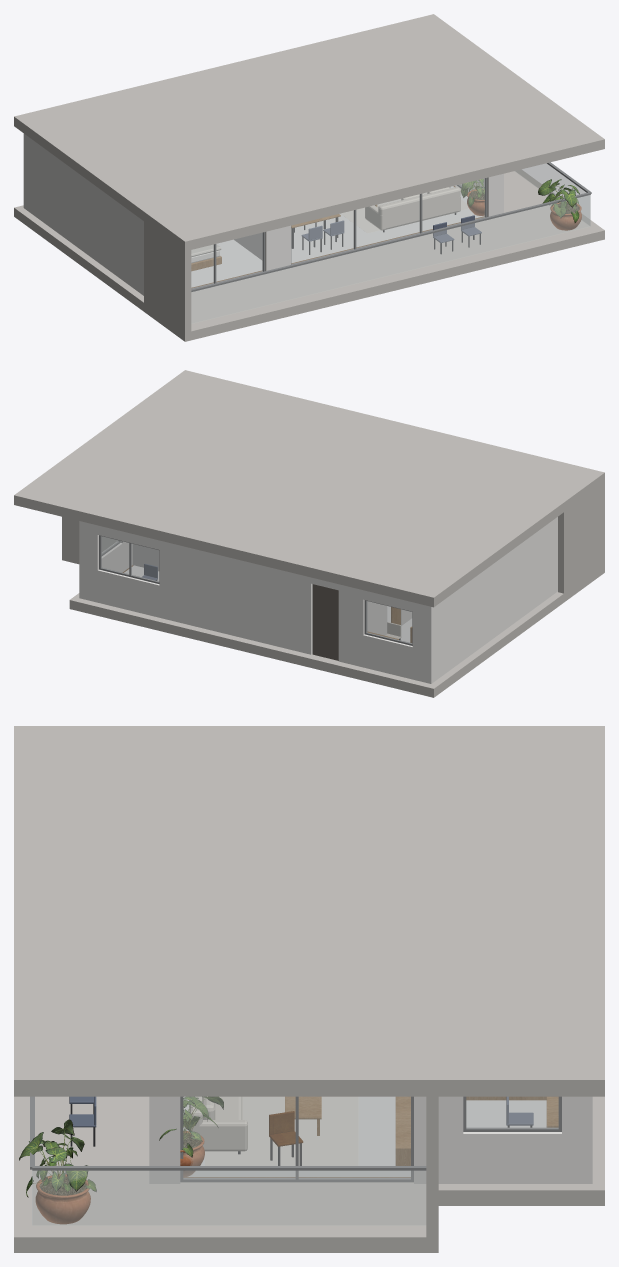
The model's file is luce.glb.
The picture shows the model from 3 angles, top to bottom: view 1: azimuth 30°, elevation 25°; view 2: azimuth 150°, elevation 25°; view 3: azimuth 270°, elevation 25°; orthographic projection. The views are drawn at different scales.
Visible parts, largest first — view 1: F1_CEIL_mesh, F1_mesh, Rail_glass0, Win_S2_glass, NAV_F1_0, Win_S1_glass, PlantBal, Rail_glass1, PlantLDK; view 2: F1_CEIL_mesh, F1_mesh, Win_N3_glass, Win_N1_glass; view 3: F1_CEIL_mesh, F1_mesh, Rail_glass1, Win_E1_glass, NAV_F1_0, PlantBal, Win_E2_glass, NAV_F1_2, PlantLDK.
Part boxes in pixels (x1,y1,x2,y2): F1_CEIL_mesh: (14,14,604,251); F1_mesh: (14,133,604,341); Rail_glass0: (191,195,590,323); Win_S2_glass: (291,178,484,264); NAV_F1_0: (191,186,483,287); Win_S1_glass: (191,232,262,288); PlantBal: (538,179,581,230); Rail_glass1: (515,163,590,225); PlantLDK: (461,179,484,215); F1_CEIL_mesh: (14,370,604,607); F1_mesh: (62,482,604,697); Win_N3_glass: (101,536,158,581); Win_N1_glass: (367,601,411,643); F1_CEIL_mesh: (14,726,604,1096); F1_mesh: (14,1096,604,1252); Rail_glass1: (32,1171,425,1225); Win_E1_glass: (183,1097,410,1178); NAV_F1_0: (183,1096,410,1176); PlantBal: (19,1119,96,1224); Win_E2_glass: (466,1097,558,1128); NAV_F1_2: (466,1100,546,1127); PlantLDK: (159,1096,223,1177).
Bounding box in the file's own units: 13.6 × 3.1 × 9.6.
30 materials, 10 textured.
